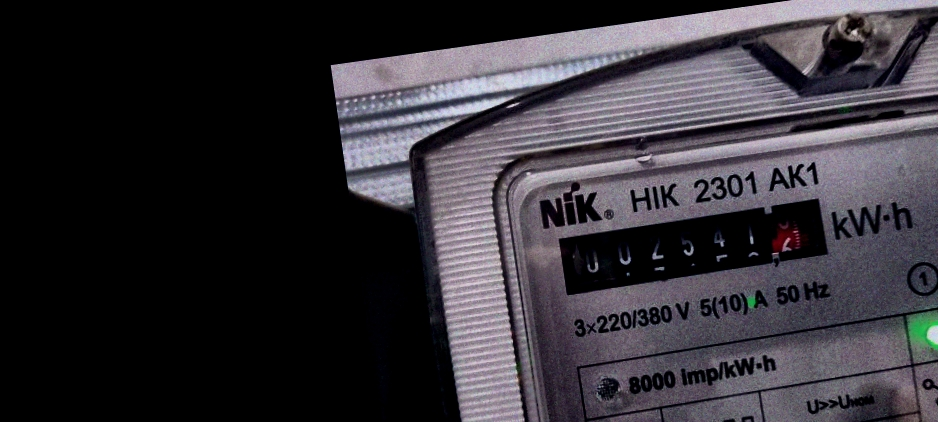0: (612, 233, 636, 268), (582, 243, 603, 275)
1: (739, 212, 759, 247)
2: (643, 227, 668, 264)
4: (708, 218, 729, 251)
5: (677, 225, 697, 259)
6: (777, 231, 795, 254)
screen: (542, 180, 851, 311)
